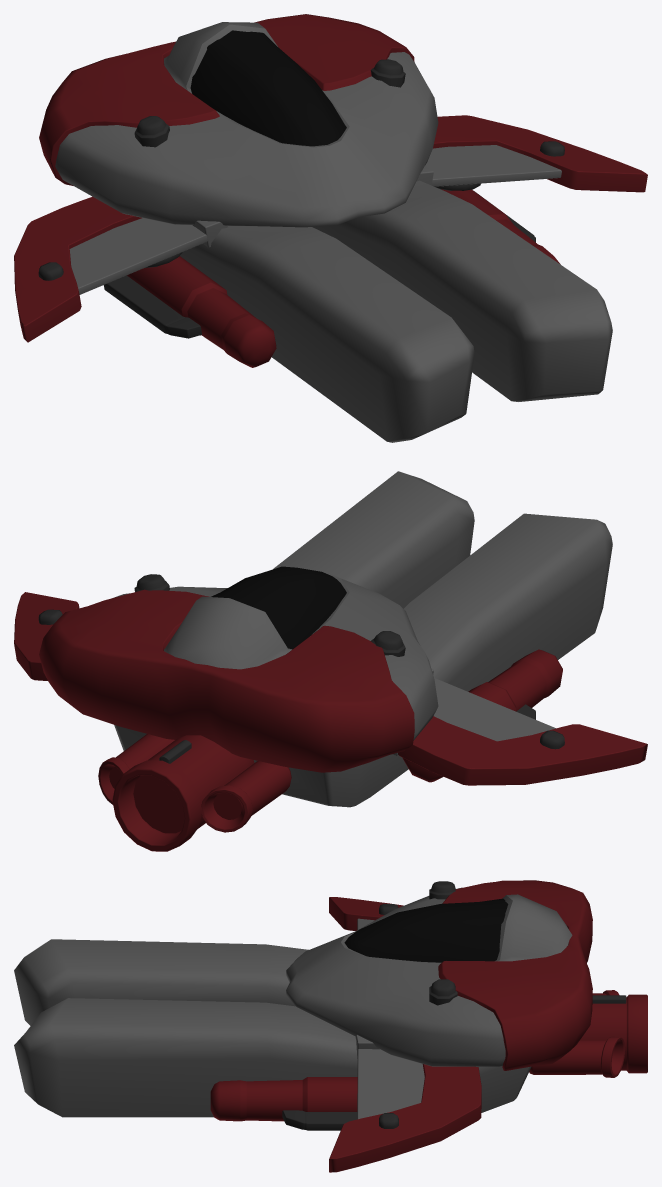
The model's file is LittleEnnemy1.glb.
3 renders of one model, top to bottom at view 1: azimuth 30°, elevation 25°; view 2: azimuth 150°, elevation 25°; view 3: azimuth 270°, elevation 25°, orthographic. The views are drawn at different scales.
Parts seen in each view (by area): view 1: Ship_enemy_01_Hull, Ship_enemy_01_Wing_R, Ship_enemy_01_Wing_L, Ship_enemy_01_Weapon_R, Ship_enemy_01_Weapon_L; view 2: Ship_enemy_01_Hull, Ship_enemy_01_Engine, Ship_enemy_01_Wing_R, Ship_enemy_01_Weapon_R, Ship_enemy_01_Wing_L; view 3: Ship_enemy_01_Hull, Ship_enemy_01_Wing_L, Ship_enemy_01_Weapon_L, Ship_enemy_01_Engine, Ship_enemy_01_Wing_R.
Part boxes in pixels (left/top/right/bottom): Ship_enemy_01_Hull: left=39, top=14, right=612, bottom=442; Ship_enemy_01_Wing_R: left=14, top=196, right=227, bottom=342; Ship_enemy_01_Wing_L: left=417, top=115, right=647, bottom=192; Ship_enemy_01_Weapon_R: left=103, top=252, right=276, bottom=367; Ship_enemy_01_Weapon_L: left=435, top=183, right=560, bottom=264; Ship_enemy_01_Hull: left=39, top=471, right=612, bottom=807; Ship_enemy_01_Engine: left=98, top=734, right=291, bottom=851; Ship_enemy_01_Wing_R: left=393, top=668, right=647, bottom=785; Ship_enemy_01_Weapon_R: left=402, top=649, right=562, bottom=782; Ship_enemy_01_Wing_L: left=14, top=592, right=79, bottom=680; Ship_enemy_01_Hull: left=14, top=880, right=592, bottom=1117; Ship_enemy_01_Wing_L: left=329, top=1035, right=481, bottom=1172; Ship_enemy_01_Weapon_L: left=210, top=1077, right=357, bottom=1130; Ship_enemy_01_Engine: left=529, top=990, right=647, bottom=1077; Ship_enemy_01_Wing_R: left=329, top=897, right=403, bottom=930.
Bounding box in the file's own units: 6.51 × 2.03 × 6.66.
1 material, 1 textured.
